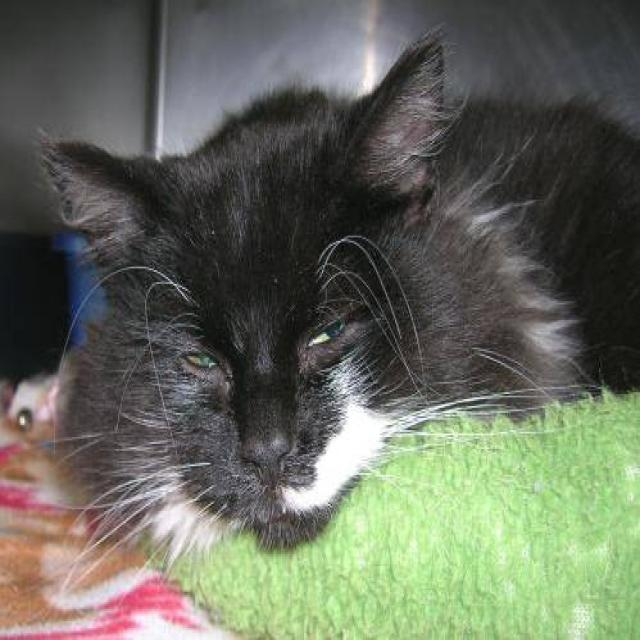Cat: (25, 50, 498, 578)
